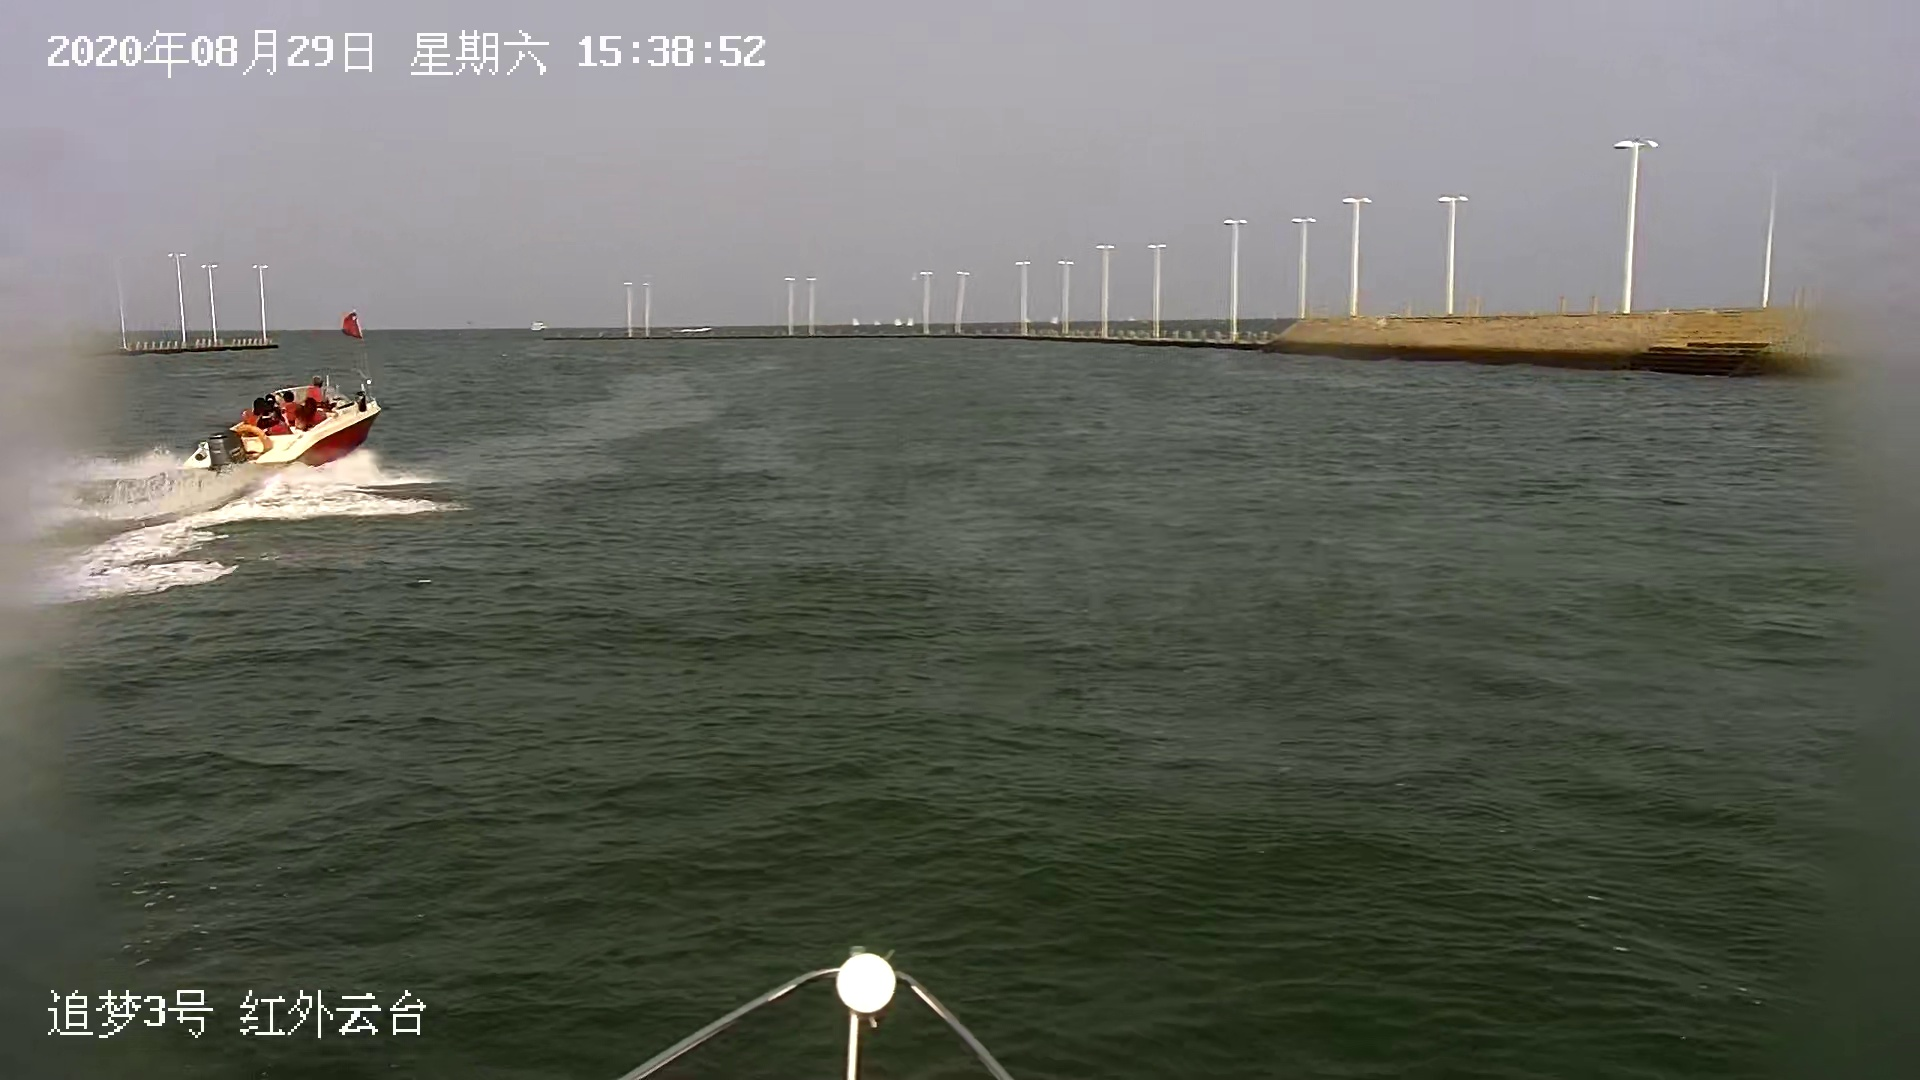barrier: (187, 367, 378, 485), (529, 316, 547, 335), (872, 316, 882, 326), (905, 315, 914, 326), (894, 314, 902, 326), (851, 315, 858, 326), (1129, 313, 1137, 320), (1051, 314, 1058, 322)
coast: (545, 128, 1899, 388), (47, 229, 274, 349)
